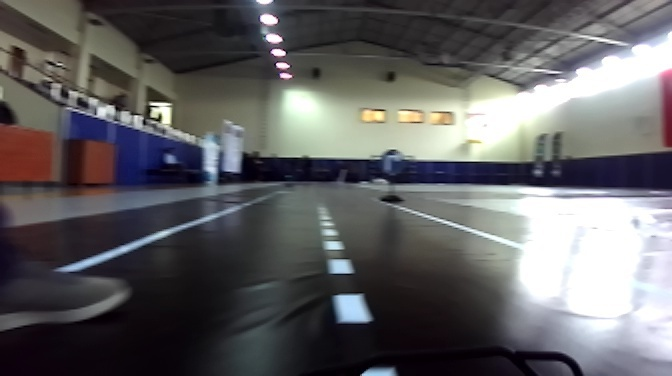saga_donus: (378, 148, 406, 177)
